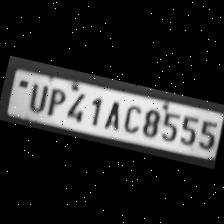1: (82, 92, 106, 126)
4: (61, 86, 90, 122)
5: (193, 115, 222, 151), (156, 106, 183, 142), (175, 111, 201, 146)
8: (137, 104, 163, 138)
A: (100, 96, 124, 130)
C: (118, 98, 145, 134)
P: (44, 83, 68, 117)
U: (23, 78, 50, 113)
